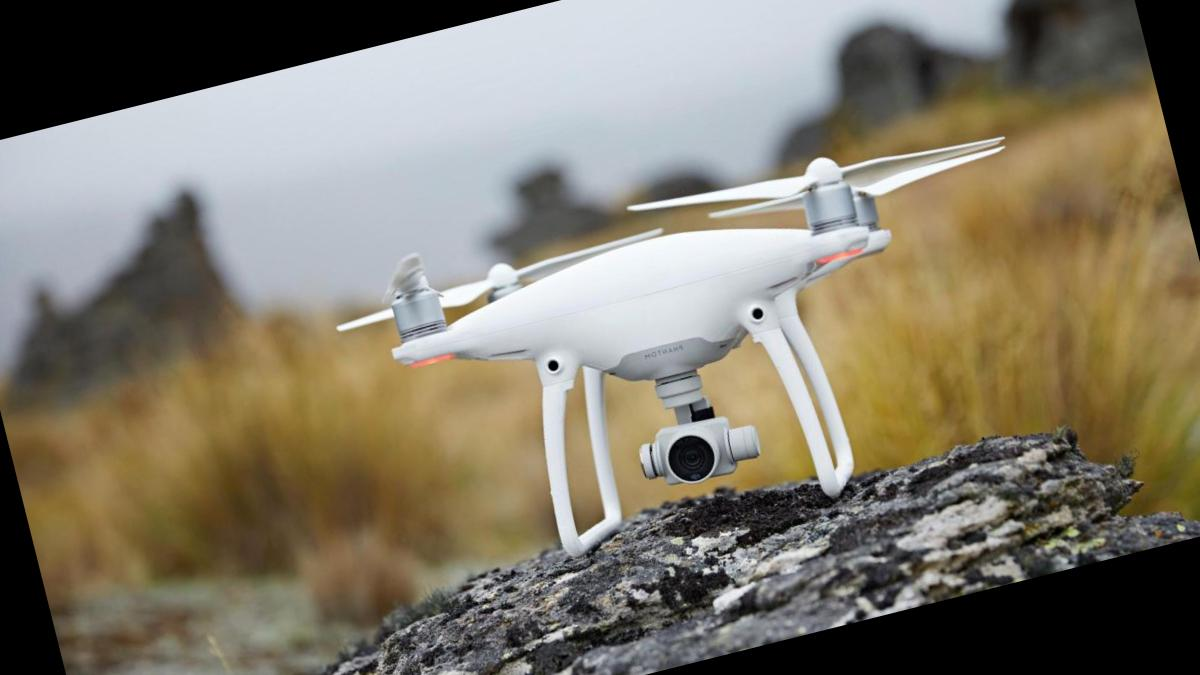drone: (250, 83, 1084, 500)
